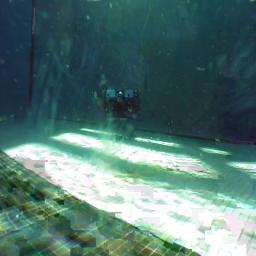front: (101, 89, 141, 119)
